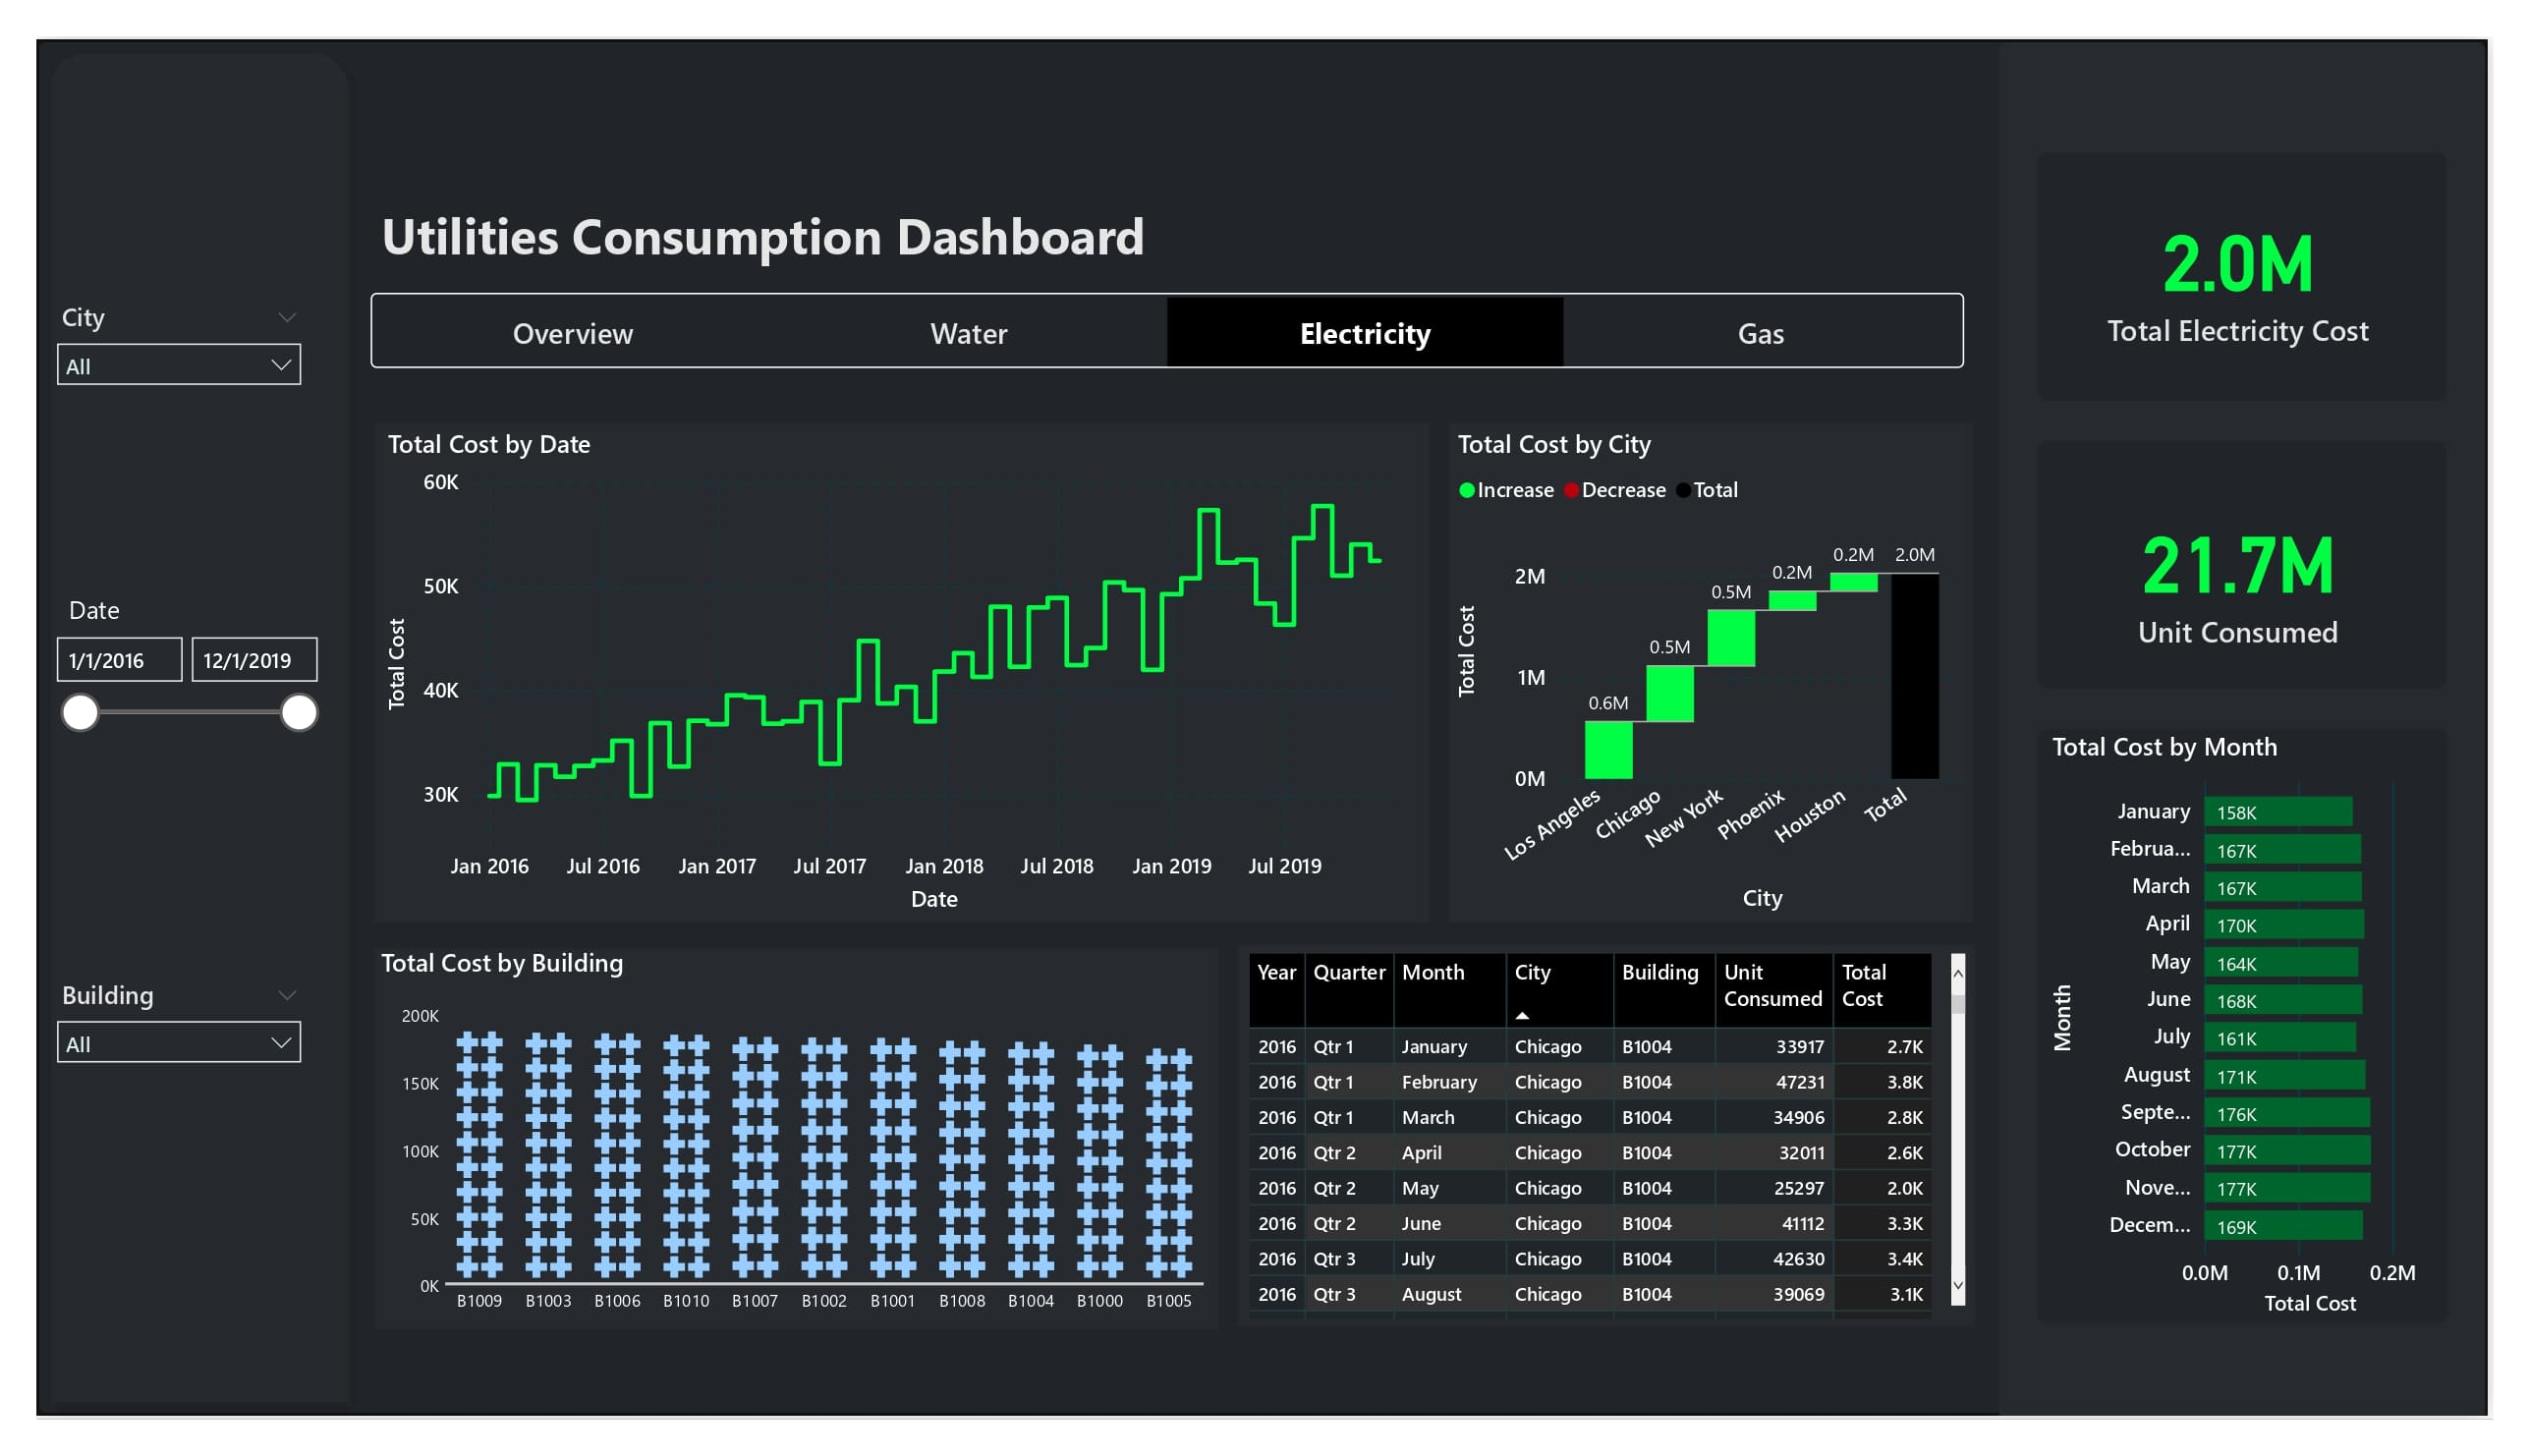

Layout of this report page (visuals, bound fields, positions):
{"tool":"powerbi","page":{"name":"Electricity","canvas":[1600,900],"ordinal":2},"visuals":[{"type":"textbox","box":[219.2,101.9,776.9,65.4],"z":0},{"type":"pageNavigator","box":[218.2,166.4,1038.2,49.1],"z":1000},{"type":"card","fields":{"Values":["Measures_Table.Total Cost"]},"box":[1306.6,81.7,255.4,145.9],"z":2000},{"type":"card","fields":{"Values":["Measures_Table.Unit Consumed"]},"box":[1306.7,282.2,255.6,135.6],"z":4000},{"type":"slicer","fields":{"Values":["Building Master.City"]},"box":[3.5,166.8,179,73],"z":5000},{"type":"slicer","fields":{"Values":["Energy Consumptions.Building"]},"box":[3.5,608.1,179,73],"z":6000},{"type":"slicer","fields":{"Values":["Energy Consumptions.Date"]},"box":[0,380.5,192.3,86.5],"z":7000},{"type":"textbox","box":[15.6,357.9,152.9,33],"z":8000},{"type":"lineChart","fields":{"Category":["Energy Consumptions.Date"],"Y":["Measures_Table.Total Cost"]},"box":[223.9,254.1,679.8,321.6],"z":9000},{"type":"waterfallChart","fields":{"Category":["Building Master.City"],"Y":["Measures_Table.Total Cost"]},"box":[920.6,254.1,340.4,321.6],"z":10000},{"type":"PBI_CV_73744D90_4DC9_4F18_8BA5_EE8FA5C98035","fields":{"Values":["Measures_Table.Total Cost"],"Category":["Energy Consumptions.Building"]},"box":[219.3,592.7,554.1,247.7],"z":11000},{"type":"tableEx","fields":{"Values":["Energy Consumptions.Date.Variation.Date Hierarchy.Year","Energy Consumptions.Date.Variation.Date Hierarchy.Quarter","Energy Consumptions.Date.Variation.Date Hierarchy.Month","Building Master.City","Building Master.Building","Measures_Table.Unit Consumed","Measures_Table.Total Cost"]},"box":[783.9,592.7,477.1,247.7],"z":12000},{"type":"clusteredBarChart","fields":{"Y":["Measures_Table.Total Cost"],"Category":["Energy Consumptions.Date.Variation.Date Hierarchy.Month"]},"box":[1307.2,450.6,263.9,386.7],"z":13000}]}

Visuals, with their boxes on the page's 1600x900 design canvas (x1, y1, x2, y2). These are canvas units, not pixel positions in the 2530x1456 screenshot, which may show the page scaled, cropped or inside an application window:
textbox: <box>219,102,996,167</box>
pageNavigator: <box>218,166,1256,216</box>
card - Measures_Table.Total Cost: <box>1307,82,1562,228</box>
card - Measures_Table.Unit Consumed: <box>1307,282,1562,418</box>
slicer - Building Master.City: <box>4,167,182,240</box>
slicer - Energy Consumptions.Building: <box>4,608,182,681</box>
slicer - Energy Consumptions.Date: <box>0,380,192,467</box>
textbox: <box>16,358,168,391</box>
lineChart - Energy Consumptions.Date x Measures_Table.Total Cost: <box>224,254,904,576</box>
waterfallChart - Building Master.City x Measures_Table.Total Cost: <box>921,254,1261,576</box>
PBI_CV_73744D90_4DC9_4F18_8BA5_EE8FA5C98035 - Measures_Table.Total Cost x Energy Consumptions.Building: <box>219,593,773,840</box>
tableEx - Energy Consumptions.Date.Variation.Date Hierarchy.Year x Energy Consumptions.Date.Variation.Date Hierarchy.Quarter: <box>784,593,1261,840</box>
clusteredBarChart - Measures_Table.Total Cost x Energy Consumptions.Date.Variation.Date Hierarchy.Month: <box>1307,451,1571,837</box>
